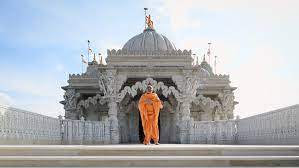Temple: (49, 5, 250, 150)
